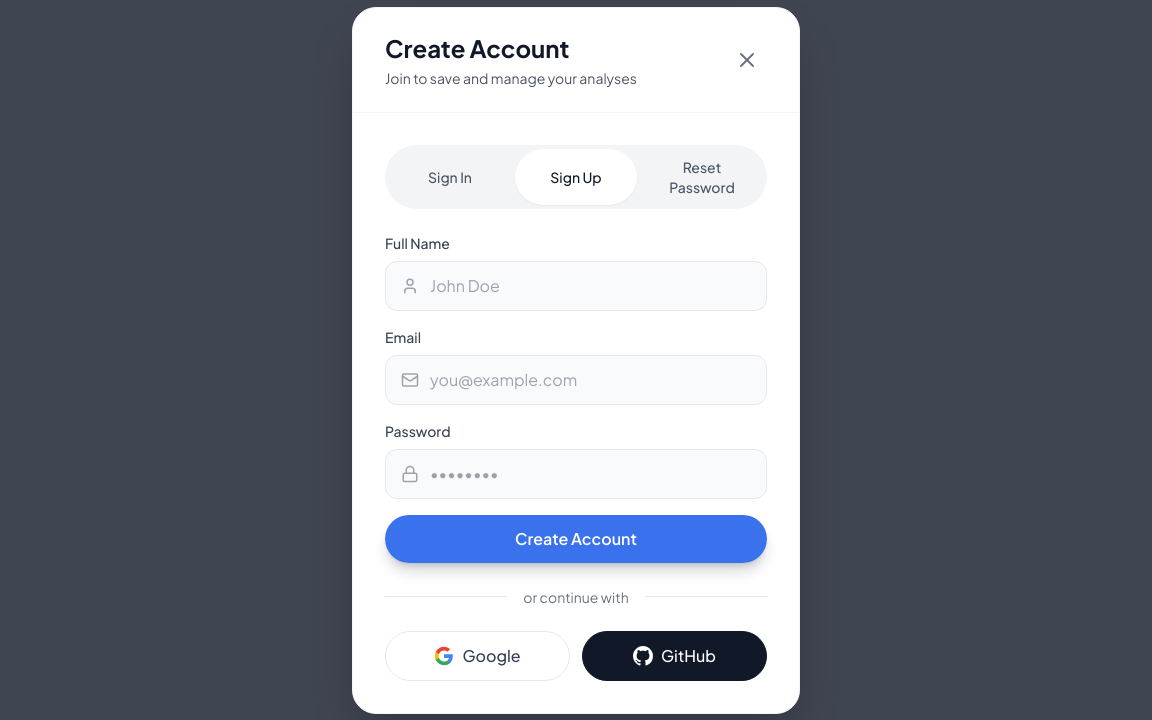
AuthModal › Sign Up form › should show error message on sign up failure
Type "Test User" into the field with placeholder "John Doe" at (576, 286), box [385,260,767,310]
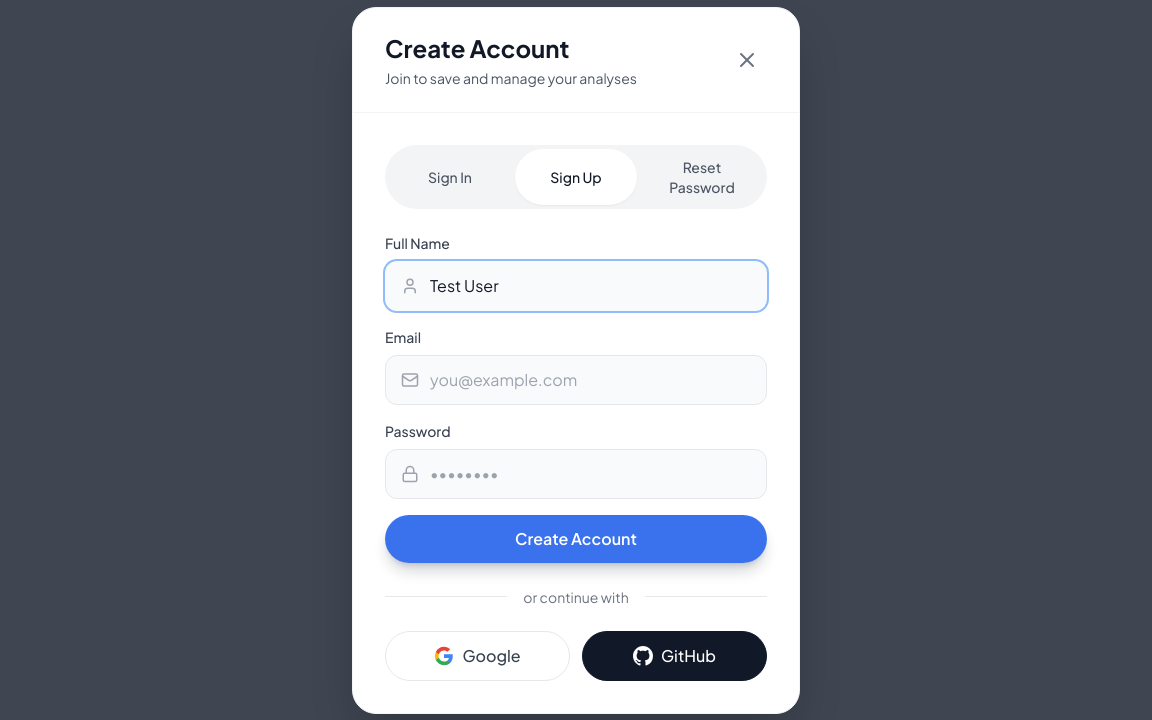
Type "existing@example.com" into the field with placeholder "you@example.com" at (576, 380), box [385,354,767,404]
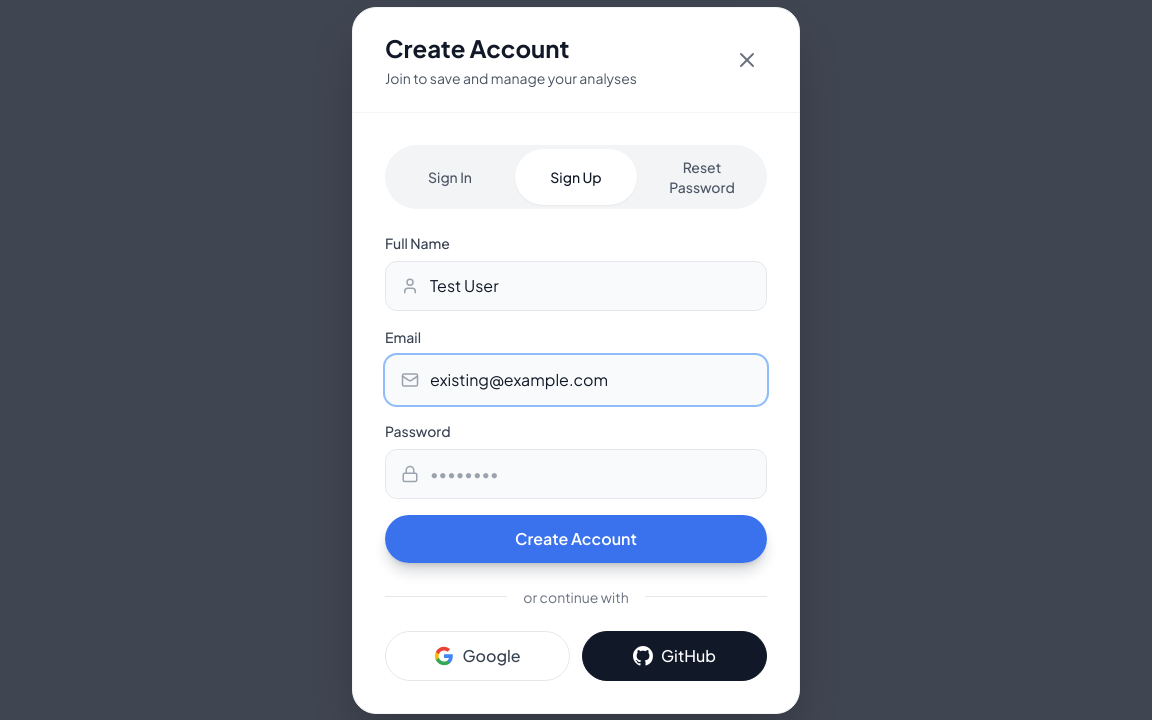
Type "password123" into the password field with placeholder "••••••••" at (576, 474), box [385,448,767,498]
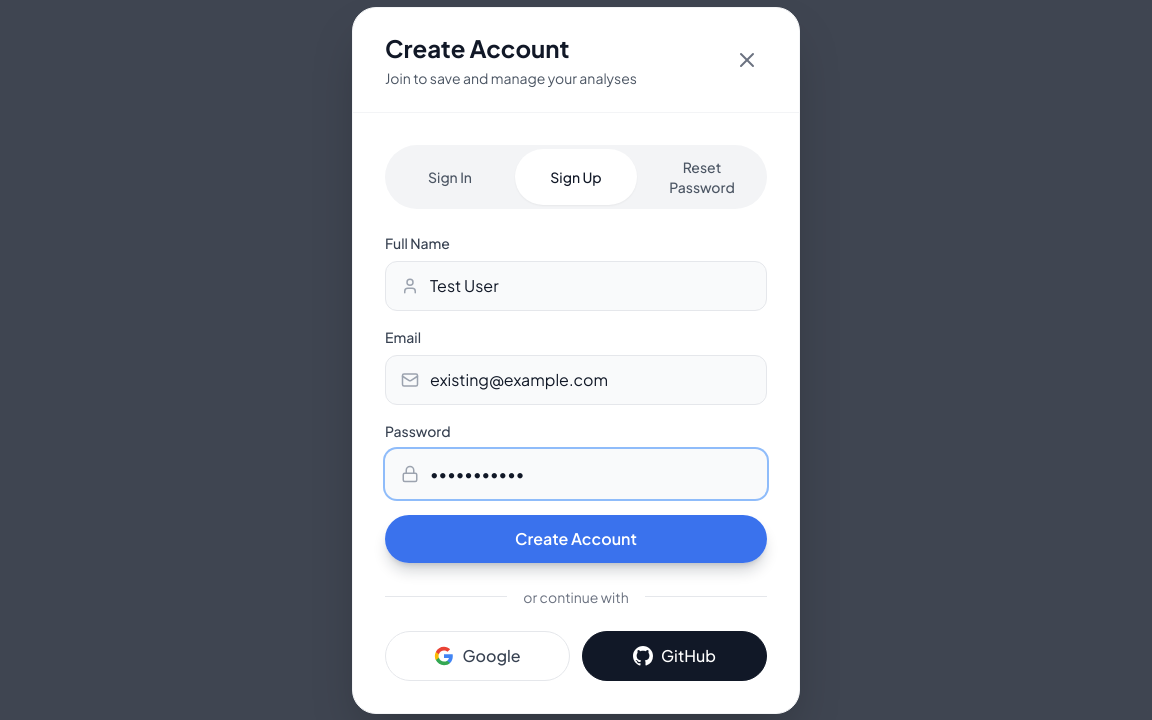
Click the button "Create Account" at (576, 538), box [385,514,767,562]
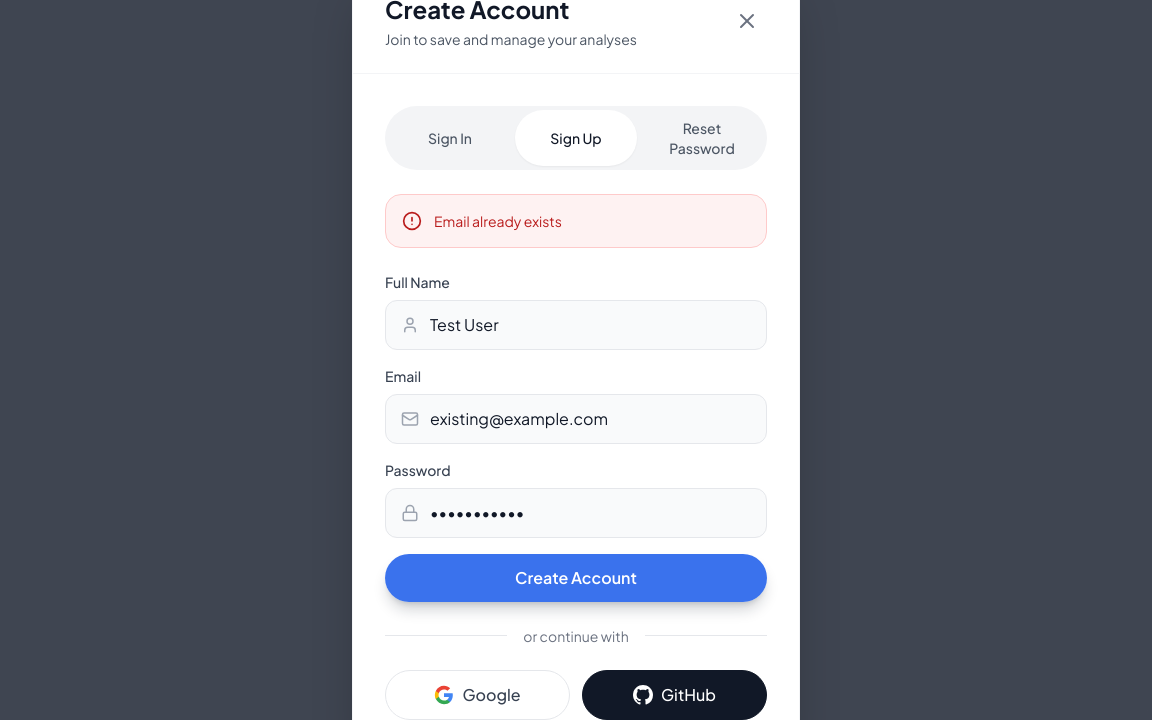
Now the text "Email already exists" is shown, box [434,210,562,230]
